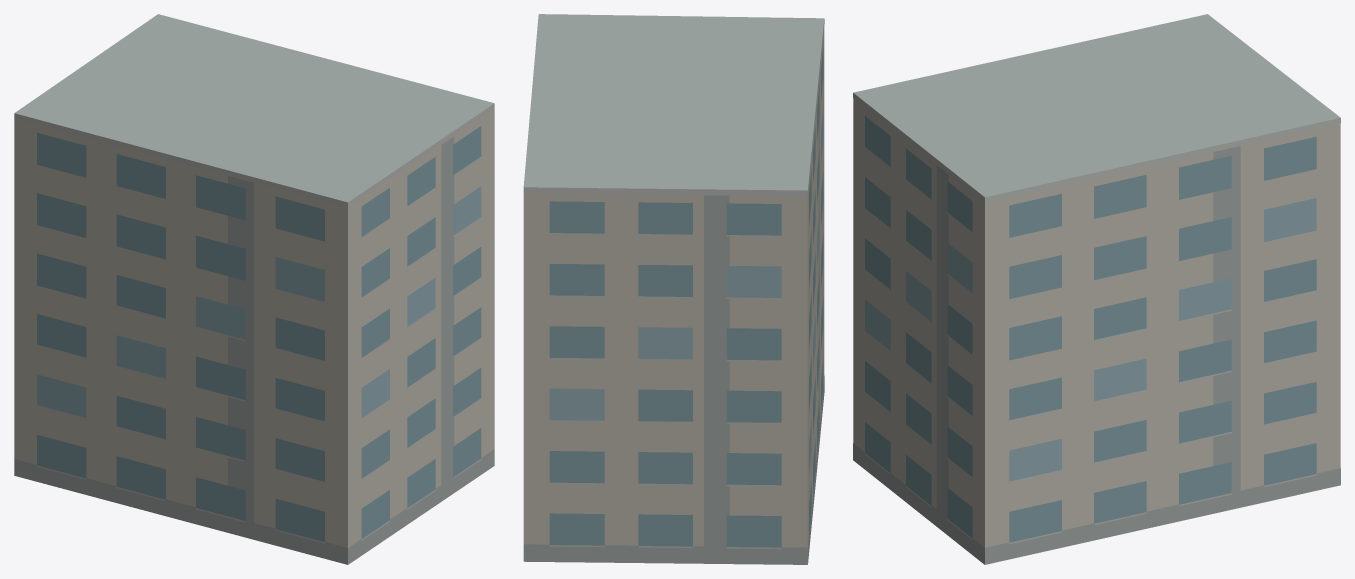
File: survey-upis-32885823.glb
The picture shows the model from 3 angles, left to right: view 1: azimuth 30°, elevation 25°; view 2: azimuth 150°, elevation 25°; view 3: azimuth 270°, elevation 25°; orthographic projection. The views are drawn at different scales.
Parts seen in each view (by area): view 1: survey-upis-32885823.tmp; view 2: survey-upis-32885823.tmp; view 3: survey-upis-32885823.tmp.
Boxes of the visible parts, <box> form: survey-upis-32885823.tmp: <box>14,14,494,564</box>; survey-upis-32885823.tmp: <box>523,14,824,564</box>; survey-upis-32885823.tmp: <box>853,14,1340,564</box>.
Size of the model in its own units: 16.7 by 15.6 by 18.77.
